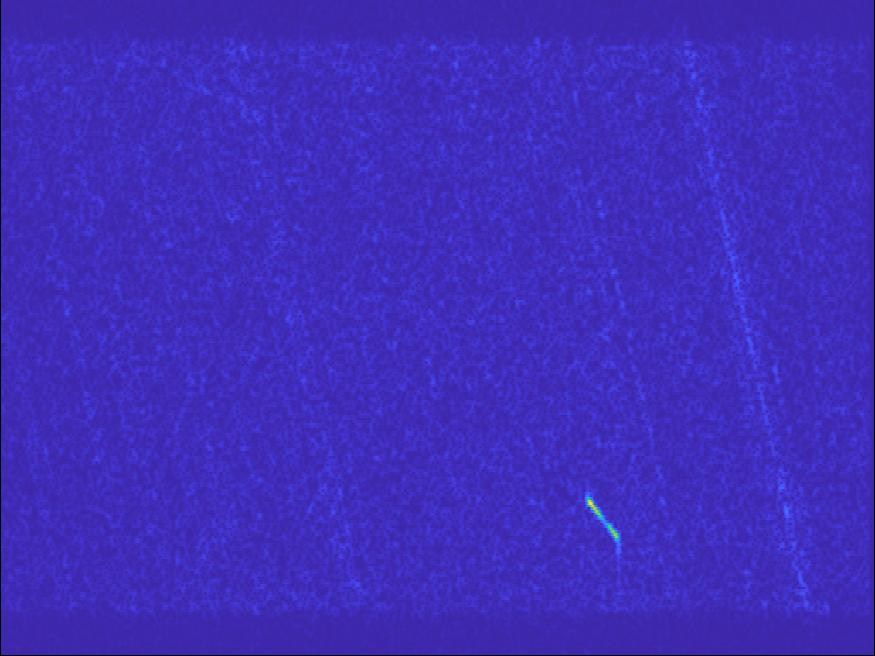Interference: (467, 284, 671, 367), (1, 304, 117, 356)
